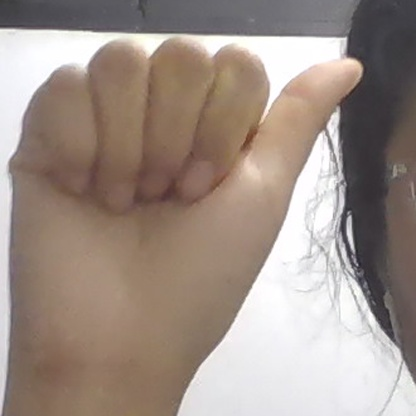A: (7, 39, 363, 393)
